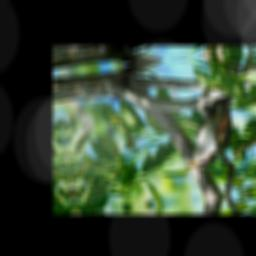Cuckoo: (174, 95, 243, 171)
